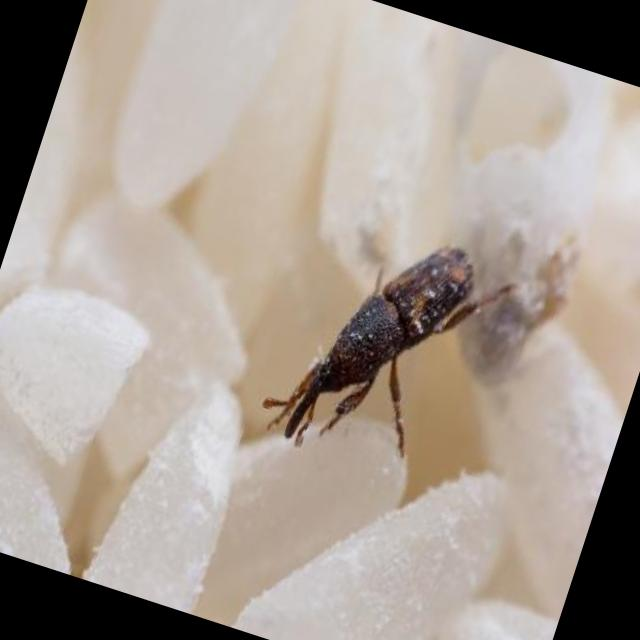rice-bug: (282, 203, 486, 476)
